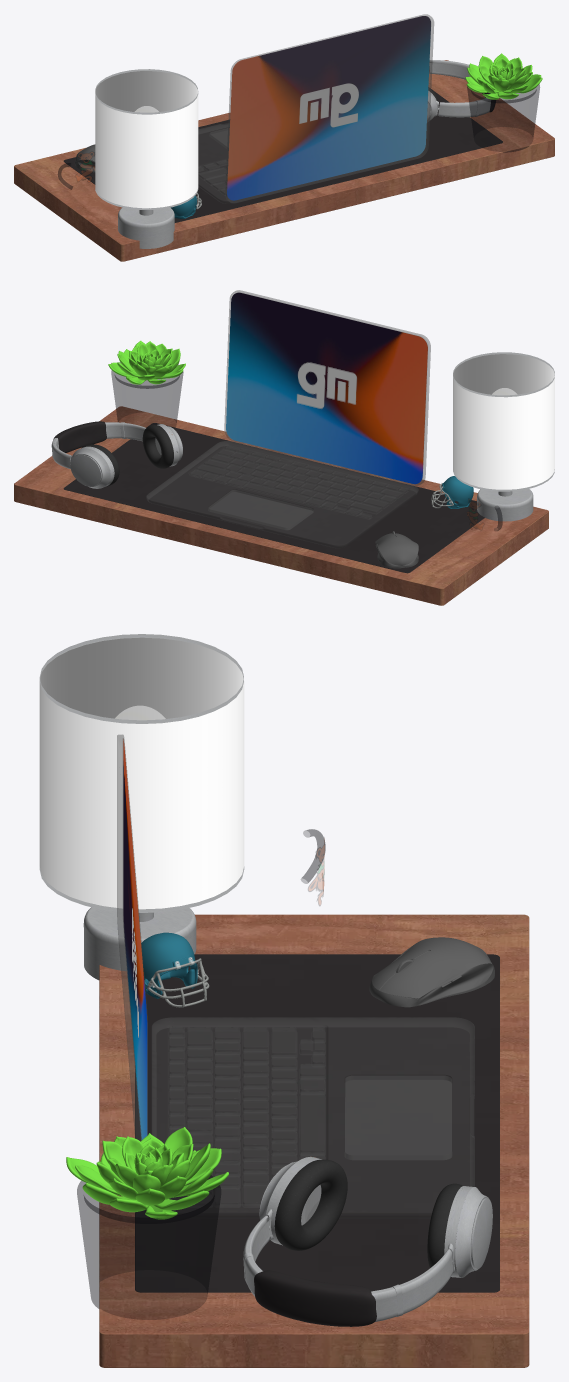
The model's file is Desk_06-hero.glb.
3 views of the same model, one above another, from view 1: azimuth 30°, elevation 25°; view 2: azimuth 150°, elevation 25°; view 3: azimuth 270°, elevation 25° (orthographic). The views are drawn at different scales.
Parts seen in each view (by area): view 1: object_10, Screen, object_70, Cylinder.001, object_1, object_13, object_1.002, object_1.001, object_16, Helmet.001, object_24; view 2: Screen, object_1, object_70, object_10, Cylinder.001, object_13, object_1.001, object_1.002, object_3, Helmet.001, object_16; view 3: object_1, object_70, object_10, Cylinder.001, object_1.001, object_1.002, object_13, object_3, Screen, Helmet.001, object_16.
Part boxes in pixels (x1,y1,x2,y2): object_10: (198, 14, 433, 203); Screen: (227, 16, 430, 200); object_70: (14, 60, 554, 261); Cylinder.001: (95, 71, 198, 208); object_1: (63, 87, 502, 222); object_13: (95, 60, 490, 248); object_1.002: (467, 84, 539, 152); object_1.001: (75, 53, 542, 172); object_16: (95, 91, 437, 209); Helmet.001: (171, 193, 201, 218); object_24: (75, 152, 94, 182); Screen: (226, 292, 427, 484); object_1: (53, 421, 484, 573); object_70: (14, 406, 548, 605); object_10: (85, 290, 430, 547); Cylinder.001: (453, 354, 554, 489); object_13: (51, 352, 554, 521); object_1.001: (108, 340, 418, 568); object_1.002: (111, 362, 183, 428); object_3: (81, 425, 173, 486); Helmet.001: (431, 476, 473, 508); object_16: (83, 425, 554, 491); object_1: (135, 954, 499, 1326); object_70: (99, 914, 529, 1367); object_10: (117, 734, 474, 1224); Cylinder.001: (39, 637, 244, 909); object_1.001: (66, 937, 494, 1219); object_1.002: (77, 1175, 220, 1319); object_13: (39, 634, 492, 1321); object_3: (274, 1159, 462, 1267); Screen: (123, 739, 147, 1139); Helmet.001: (141, 932, 209, 1007); object_16: (39, 866, 465, 1277).
Size of the model in its own units: 6.56 by 2.38 by 3.17.
15 materials, 14 textured.
